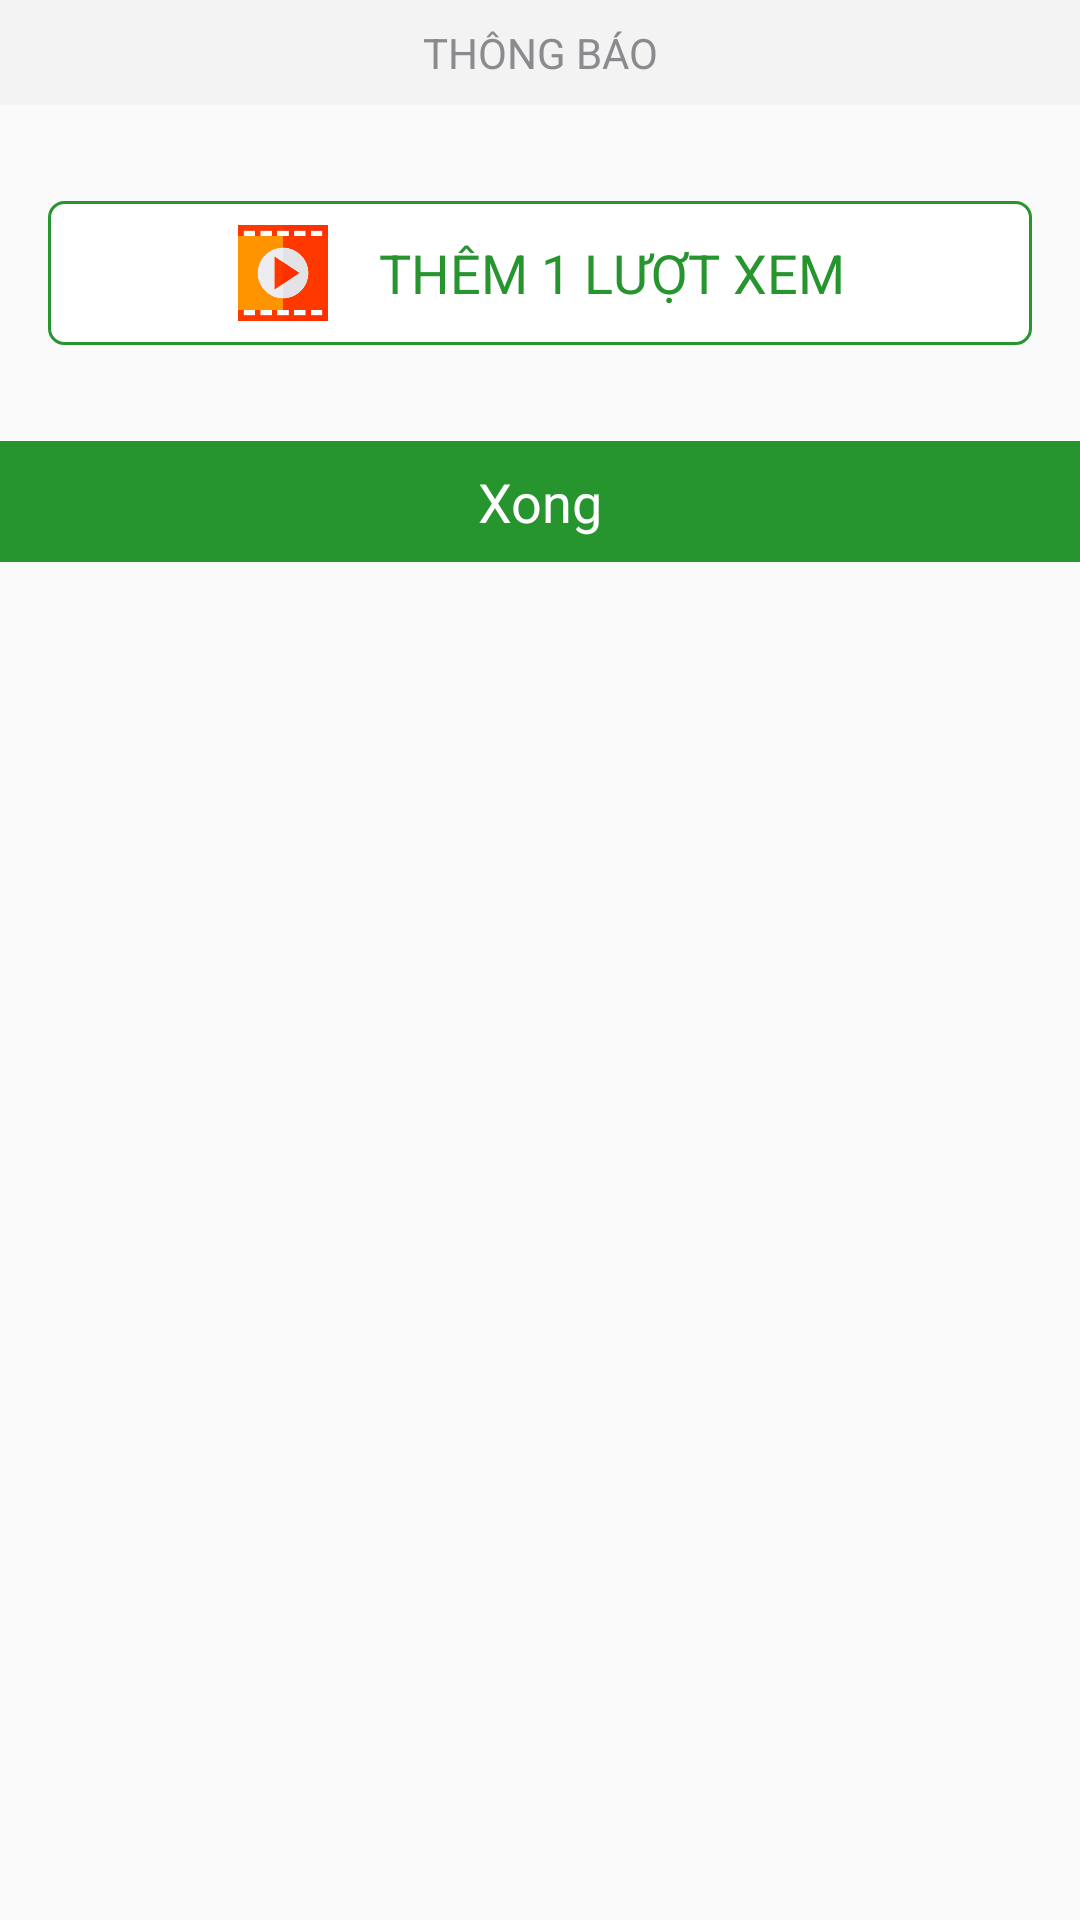

Screen size 1080px×1920px. Icon name, then its center in pixels as (x=x, y=y):
video: (x=283, y=273)
